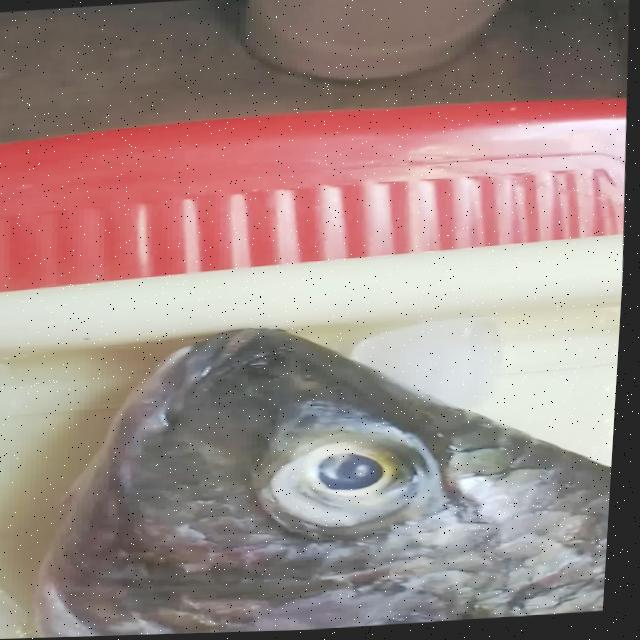Fresh: (216, 404, 495, 541)
